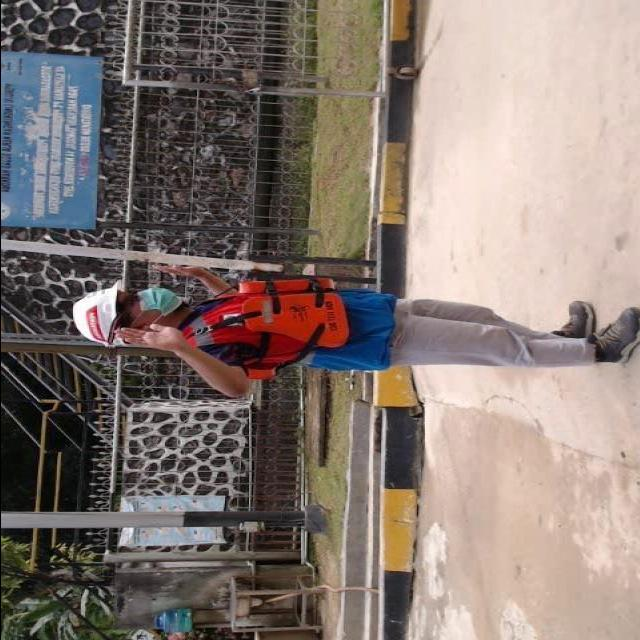helmet: (70, 276, 130, 352)
jacket: (182, 262, 348, 388)
